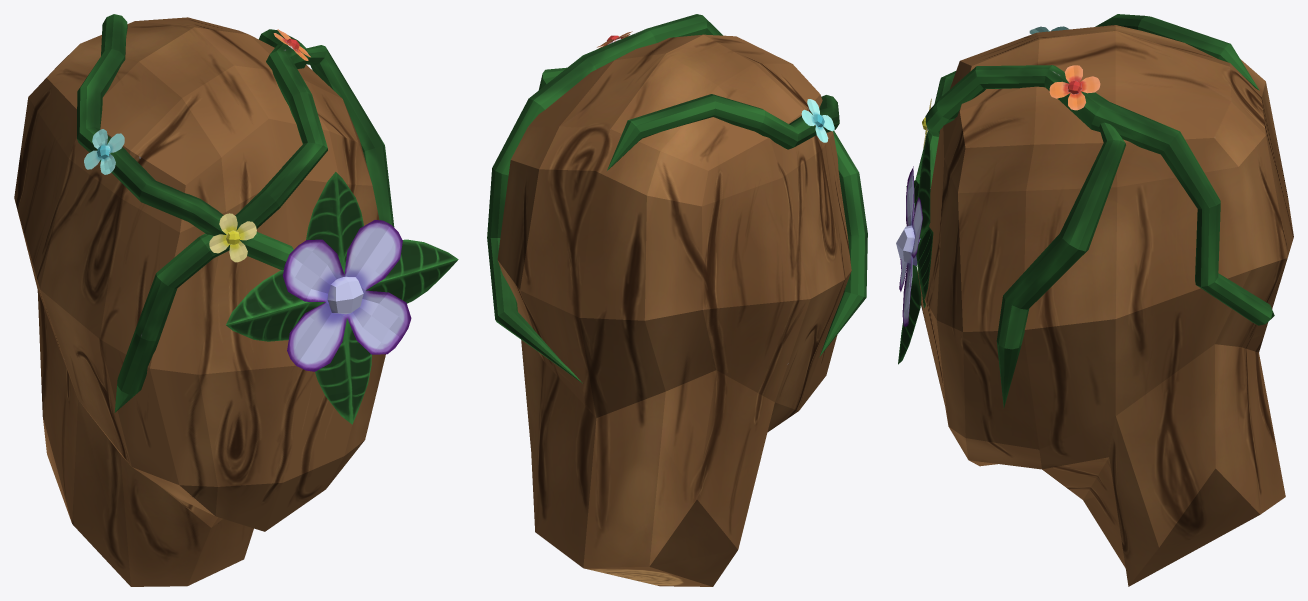
File: cabecaPlanta01 (1).glb
3 views of the same model, side by side, from view 1: azimuth 30°, elevation 25°; view 2: azimuth 150°, elevation 25°; view 3: azimuth 270°, elevation 25° (orthographic). The views are drawn at different scales.
Visible parts, largest first — view 1: cabeça, vinhas, florFundo, Flor, Flor.003, botao, Flor.001; view 2: cabeça, vinhas, Flor.001; view 3: cabeça, vinhas, florFundo, Flor, Flor.002, botao.
Part boxes in pixels (x1,y1,x2,y2): cabeça: (14,17,385,586); vinhas: (77,14,394,412); florFundo: (226,172,458,424); Flor: (283,220,411,371); Flor.003: (209,213,256,262); botao: (324,276,363,314); Flor.001: (84,129,124,174); cabeça: (497,34,851,586); vinhas: (487,14,867,383); Flor.001: (801,99,834,142); cabeça: (917,25,1293,586); vinhas: (915,14,1274,408); florFundo: (898,132,933,364); Flor: (899,166,922,326); Flor.002: (1049,65,1100,110); botao: (896,225,920,265).
Bounding box in the file's own units: 1.39 × 2.33 × 1.55.
Materials: 2 (2 with a texture image).
